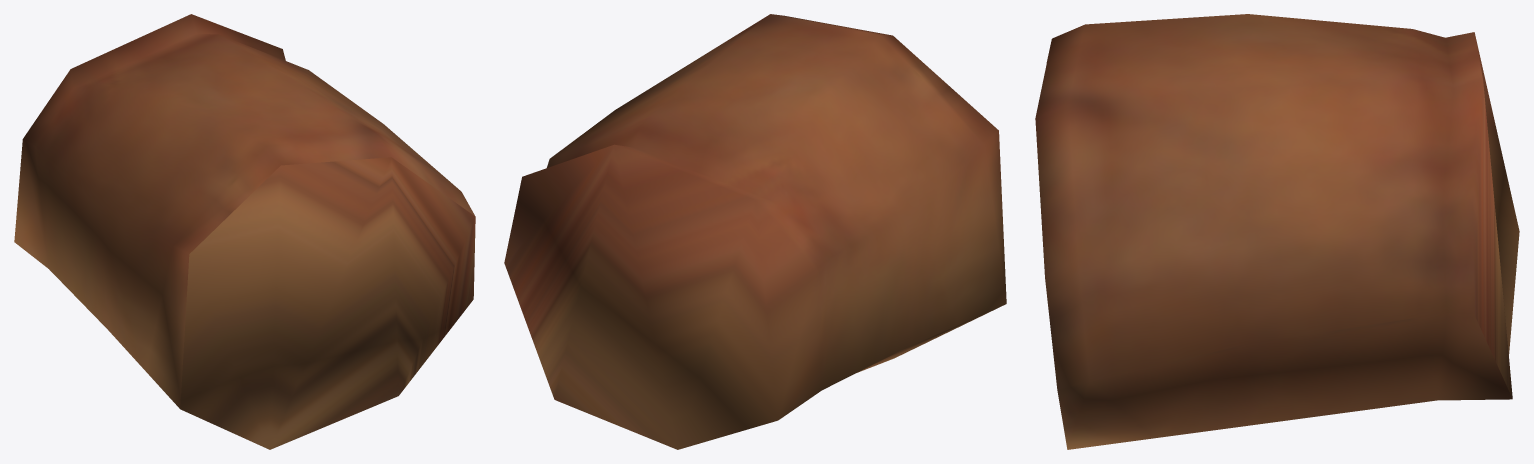
The model's file is index_02_l.dae.
3 renders of one model, left to right at view 1: azimuth 30°, elevation 25°; view 2: azimuth 150°, elevation 25°; view 3: azimuth 270°, elevation 25°, orthographic. The views are drawn at different scales.
Visible parts, largest first — view 1: index_2_l; view 2: index_2_l; view 3: index_2_l.
Boxes of the visible parts, box(x1,y1,x2,y2) form: index_2_l: box(14, 14, 475, 449); index_2_l: box(504, 14, 1006, 449); index_2_l: box(1035, 14, 1519, 449).
Bounding box in the file's own units: 0.0211 × 0.0235 × 0.0201.
1 material, 1 textured.
